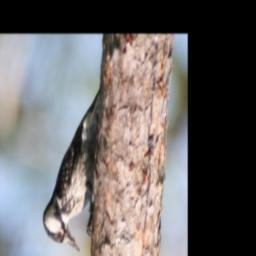Woodpecker: (42, 80, 100, 253)
